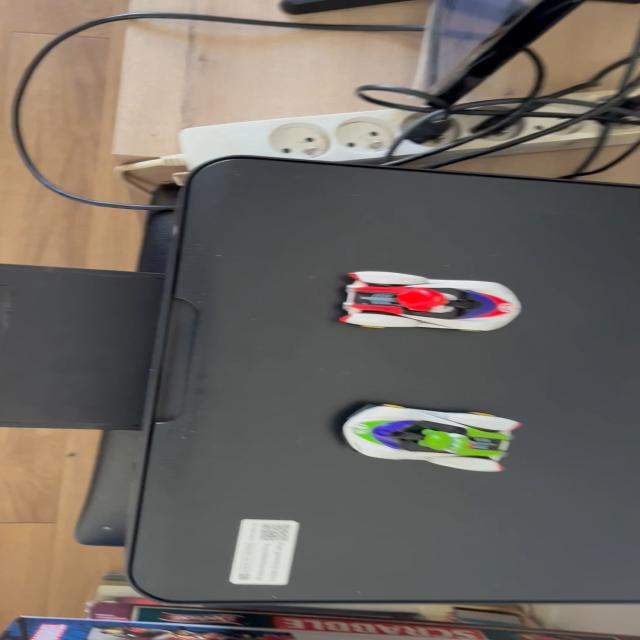mario: (324, 267, 533, 336)
yoshi: (328, 397, 535, 478)
